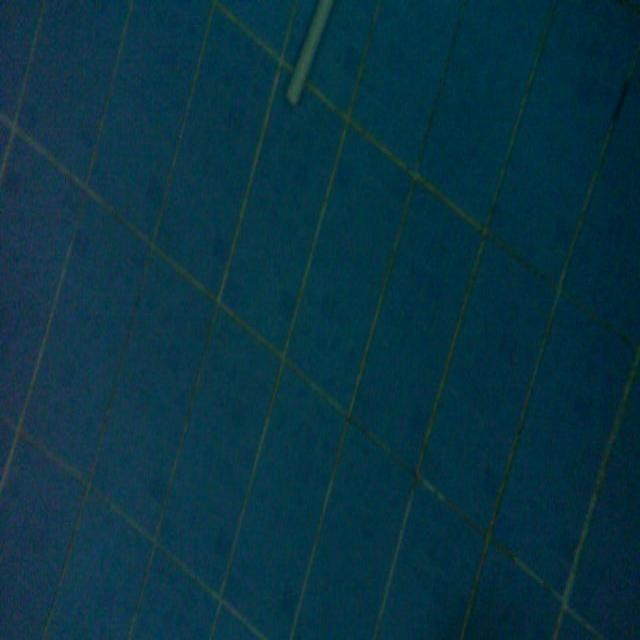Cube: (284, 0, 334, 107)
